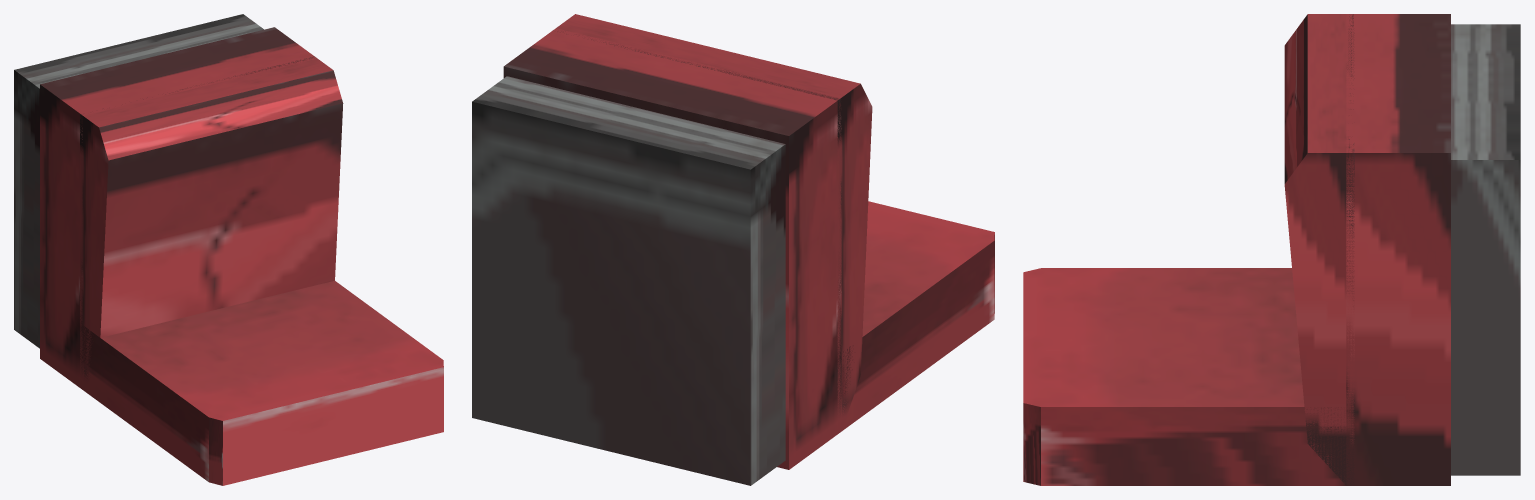
File: pz_50s_red_0_fidelity_r1.obj
3 renders of one model, left to right at view 1: azimuth 30°, elevation 25°; view 2: azimuth 150°, elevation 25°; view 3: azimuth 270°, elevation 25°, orthographic. The views are drawn at different scales.
Parts seen in each view (by area): view 1: pz_50s_red_0_fidelity_r1; view 2: pz_50s_red_0_fidelity_r1; view 3: pz_50s_red_0_fidelity_r1.
Boxes of the visible parts, x1,y1,x2,y2 form: pz_50s_red_0_fidelity_r1: (14,14,443,485); pz_50s_red_0_fidelity_r1: (472,14,994,485); pz_50s_red_0_fidelity_r1: (1023,14,1520,485).
Size of the model in its own units: 0.85 by 0.95 by 1.28.
Materials: 1 (1 with a texture image).
